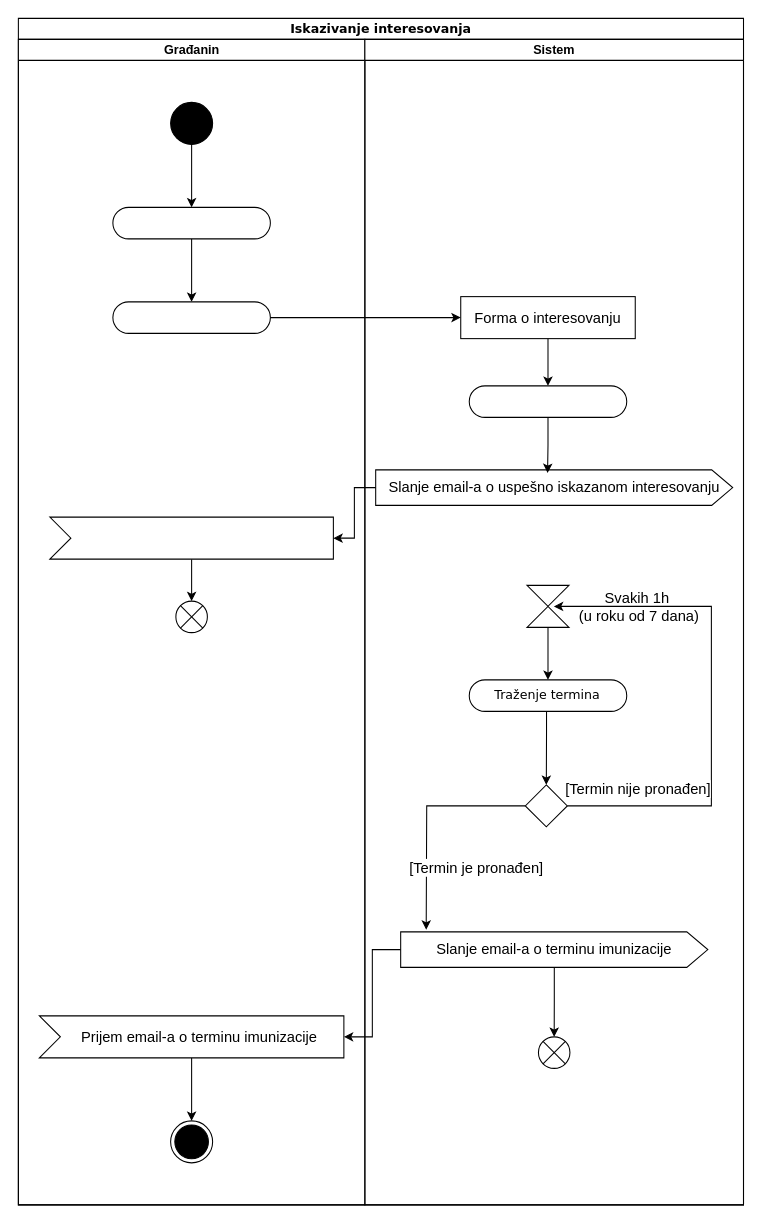
The diagram is 762 pixels wide and 1223 high, and some of its shapes have lost their labels. The centre of each missing label's shape, as x and y in pixels:
"Kreiranje email-a o interesovanju" belongs at point 547,401.
"Popunjavanje forme o interesovanju" belongs at point 191,222.
"Prijem email-a o uspešno iskazanom interesovanju" belongs at point 191,537.
"Slanje forme" belongs at point 191,317.
